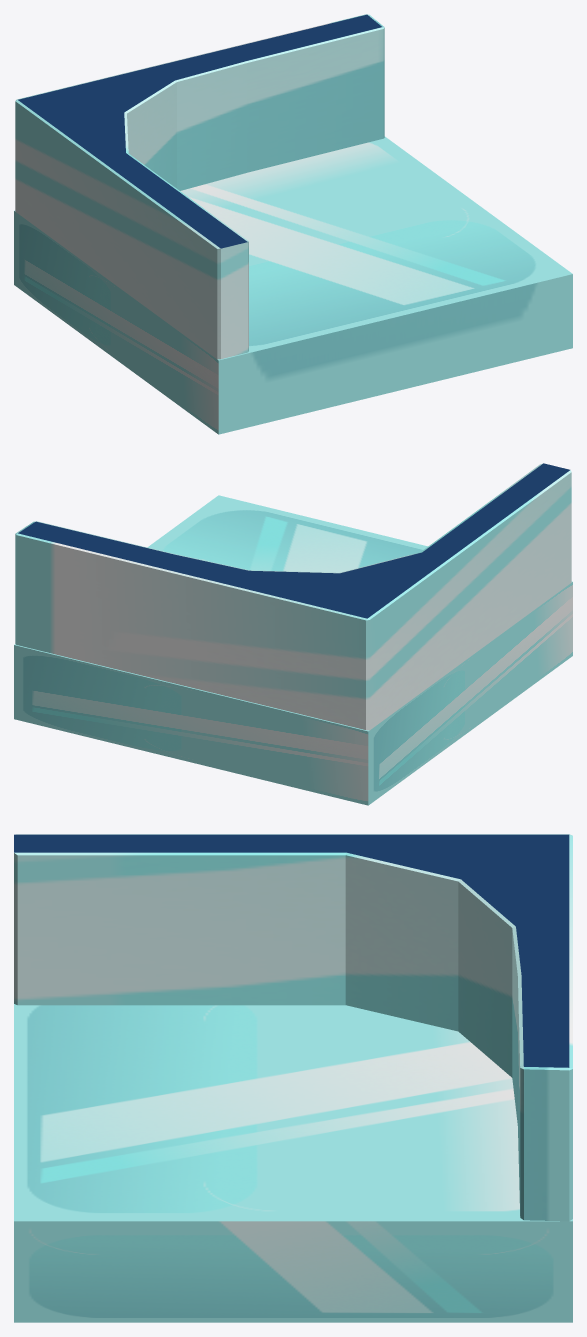
The model's file is ice_corner.glb.
The picture shows the model from 3 angles, top to bottom: view 1: azimuth 30°, elevation 25°; view 2: azimuth 150°, elevation 25°; view 3: azimuth 270°, elevation 25°; orthographic projection. The views are drawn at different scales.
Visible parts, largest first — view 1: Cube, Cube.002; view 2: Cube.002, Cube; view 3: Cube, Cube.002.
Part boxes in pixels (x1,y1,x2,y2): Cube: [14, 136, 572, 434]; Cube.002: [15, 14, 384, 359]; Cube.002: [15, 463, 571, 730]; Cube: [14, 495, 572, 805]; Cube: [14, 1004, 572, 1322]; Cube.002: [14, 834, 572, 1221].
Bounding box in the file's own units: 1 × 0.5 × 1.
Materials: 2 (1 with a texture image).
